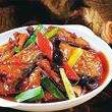hongshaodaiyu: (1, 25, 112, 107)
